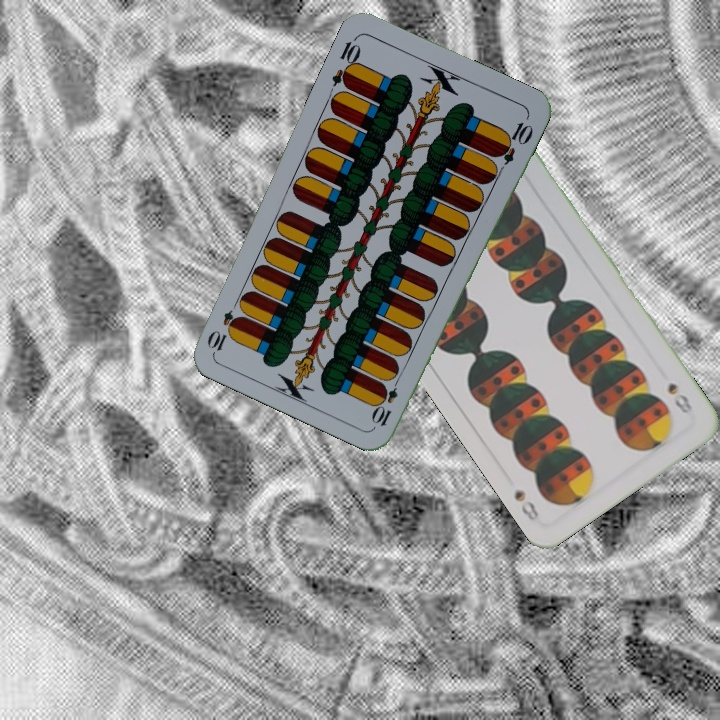E10: (328, 32, 364, 91), (370, 371, 403, 429)
S8: (663, 379, 695, 417)
